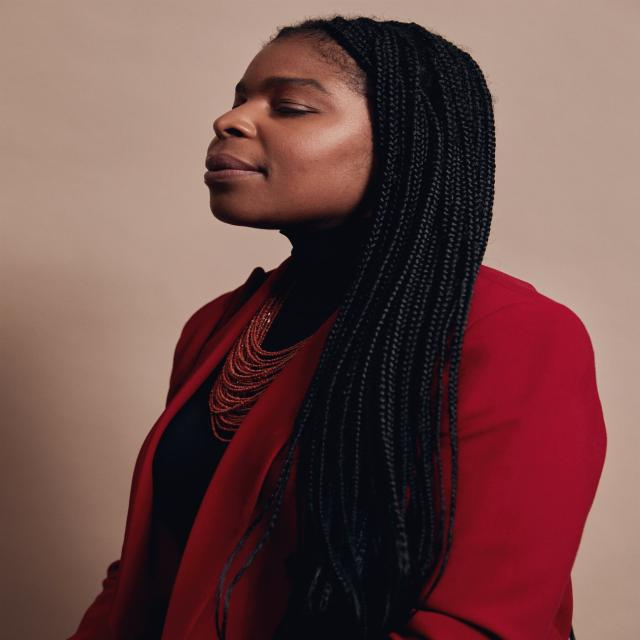sem_oculos: (222, 77, 452, 133)
